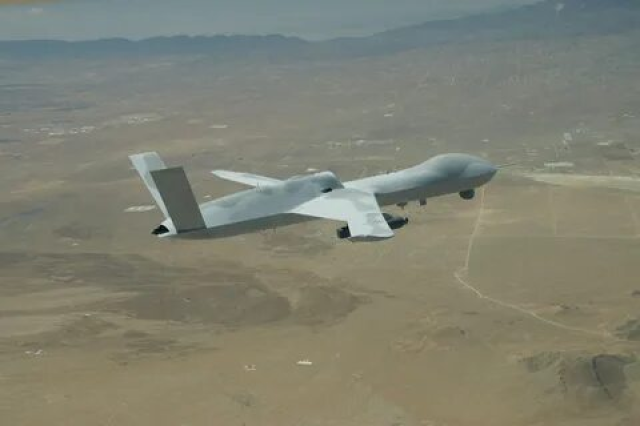military drone: (128, 150, 517, 243)
